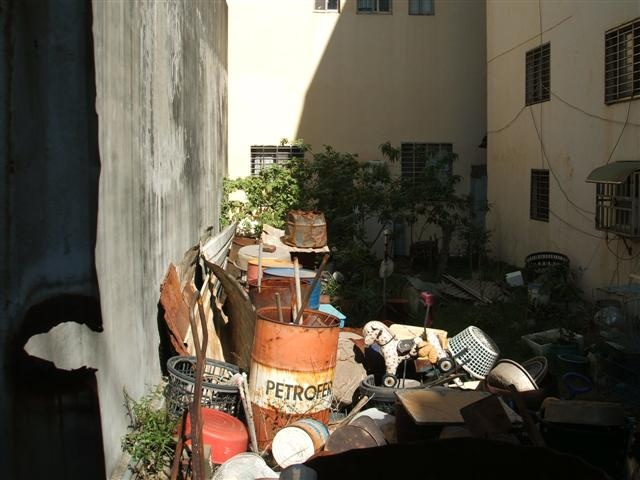bowl: (176, 406, 248, 465), (486, 358, 540, 392)
bucket: (248, 305, 341, 454), (271, 416, 332, 468)
styrofoam: (520, 326, 584, 357)
